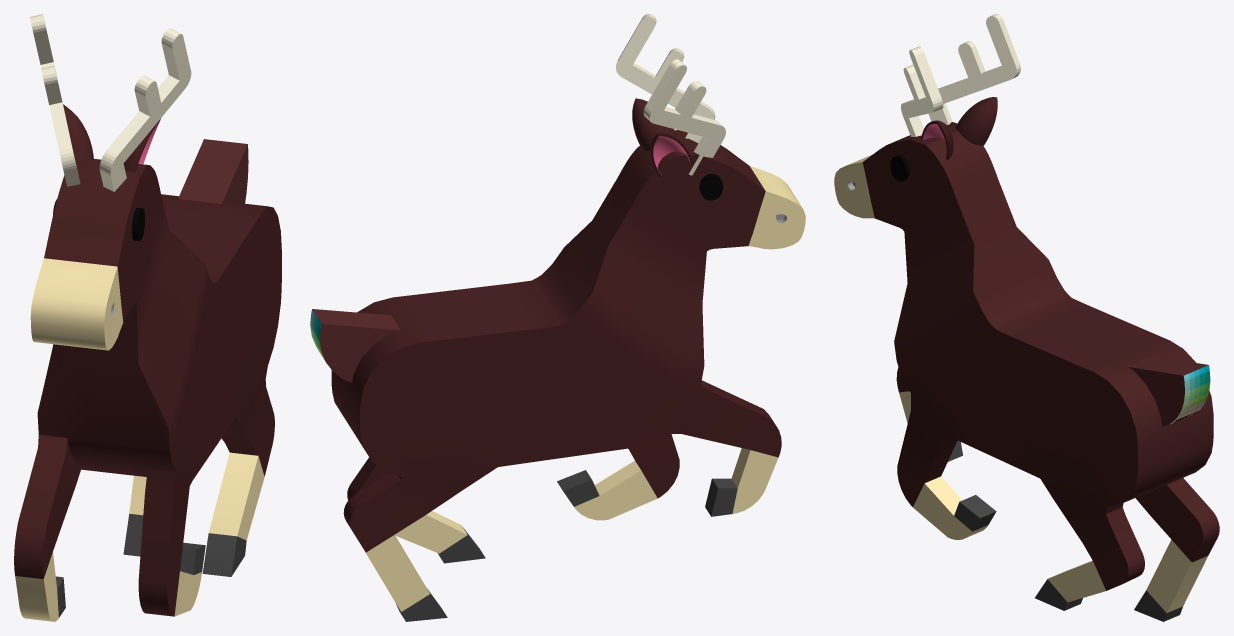
File: deer.fbx
3 renders of one model, left to right at view 1: azimuth 30°, elevation 25°; view 2: azimuth 150°, elevation 25°; view 3: azimuth 270°, elevation 25°, orthographic. The views are drawn at different scales.
Parts seen in each view (by area): view 1: Plane.115, Cube.6219, Cube.6221, Circle.1883; view 2: Plane.115, Cube.6219, Cube.6221; view 3: Plane.115, Cube.6219, Cube.6221.
Part boxes in pixels (left/top/right/bottom): Plane.115: left=14, top=158, right=281, bottom=621; Cube.6219: left=30, top=14, right=191, bottom=191; Cube.6221: left=178, top=139, right=248, bottom=203; Circle.1883: left=53, top=199, right=144, bottom=241; Plane.115: left=331, top=130, right=805, bottom=621; Cube.6219: left=616, top=14, right=725, bottom=177; Cube.6221: left=310, top=309, right=400, bottom=382; Plane.115: left=834, top=122, right=1219, bottom=621; Cube.6219: left=901, top=14, right=1020, bottom=160; Cube.6221: left=1128, top=356, right=1210, bottom=426.
Bounding box in the file's own units: 163 × 245 × 165.
Materials: 1 (1 with a texture image).
